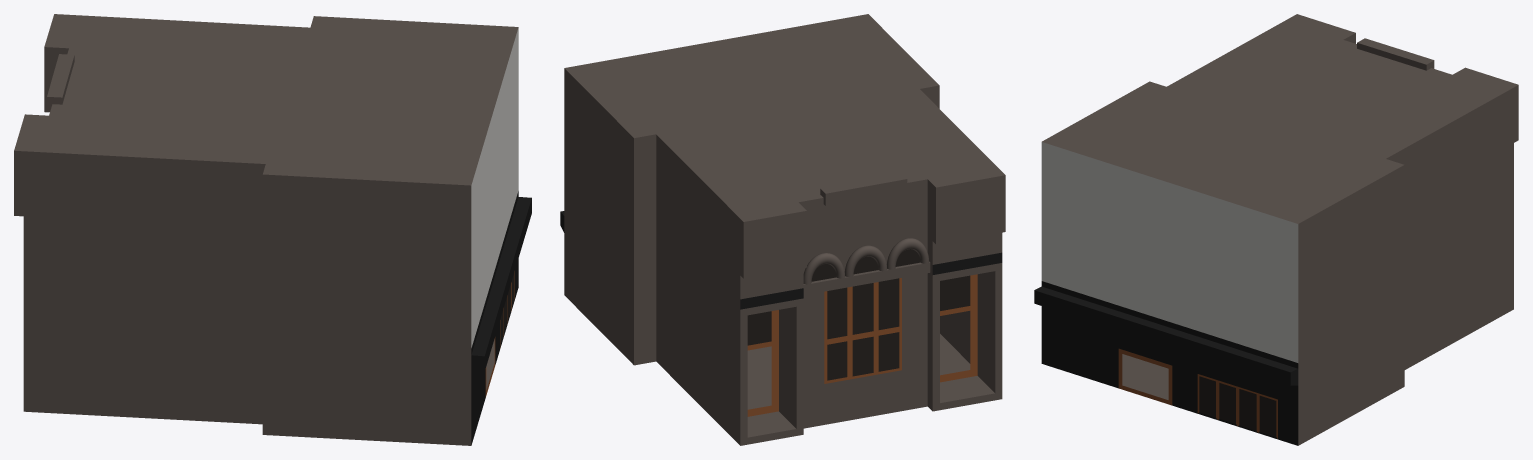
File: Head of Steam.fbx
3 renders of one model, left to right at view 1: azimuth 30°, elevation 25°; view 2: azimuth 150°, elevation 25°; view 3: azimuth 270°, elevation 25°, orthographic. The views are drawn at different scales.
Visible parts, largest first — view 1: The Head of Steam; view 2: The Head of Steam; view 3: The Head of Steam.
Boxes of the visible parts, x1,y1,x2,y2 form: The Head of Steam: [14, 14, 531, 445]; The Head of Steam: [560, 14, 1005, 445]; The Head of Steam: [1034, 14, 1518, 445].
Bounding box in the file's own units: 3437 × 1709 × 3292.
